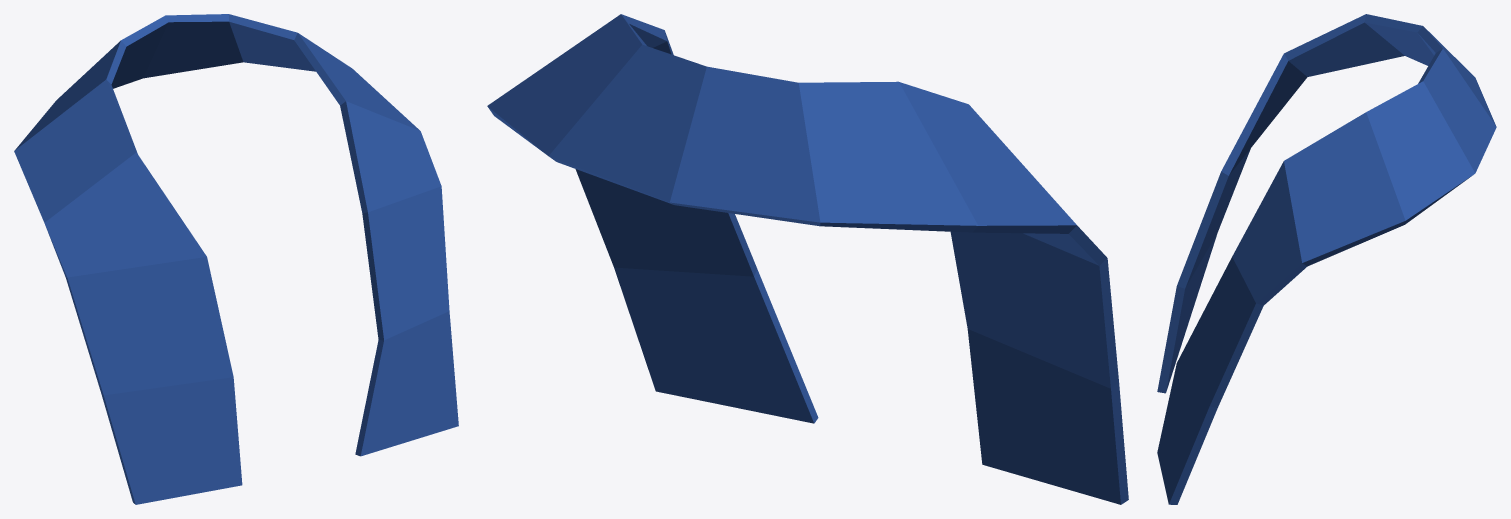
File: Beachgoer_M_Towel.fbx
3 renders of one model, left to right at view 1: azimuth 30°, elevation 25°; view 2: azimuth 150°, elevation 25°; view 3: azimuth 270°, elevation 25°, orthographic. The views are drawn at different scales.
Visible parts, largest first — view 1: Beachgoer_M_Towel; view 2: Beachgoer_M_Towel; view 3: Beachgoer_M_Towel.
Boxes of the visible parts, bbox=[...] form: Beachgoer_M_Towel: bbox=[14, 14, 458, 504]; Beachgoer_M_Towel: bbox=[487, 14, 1128, 504]; Beachgoer_M_Towel: bbox=[1157, 14, 1496, 504].
Bounding box in the file's own units: 34 × 30.79 × 25.28.
